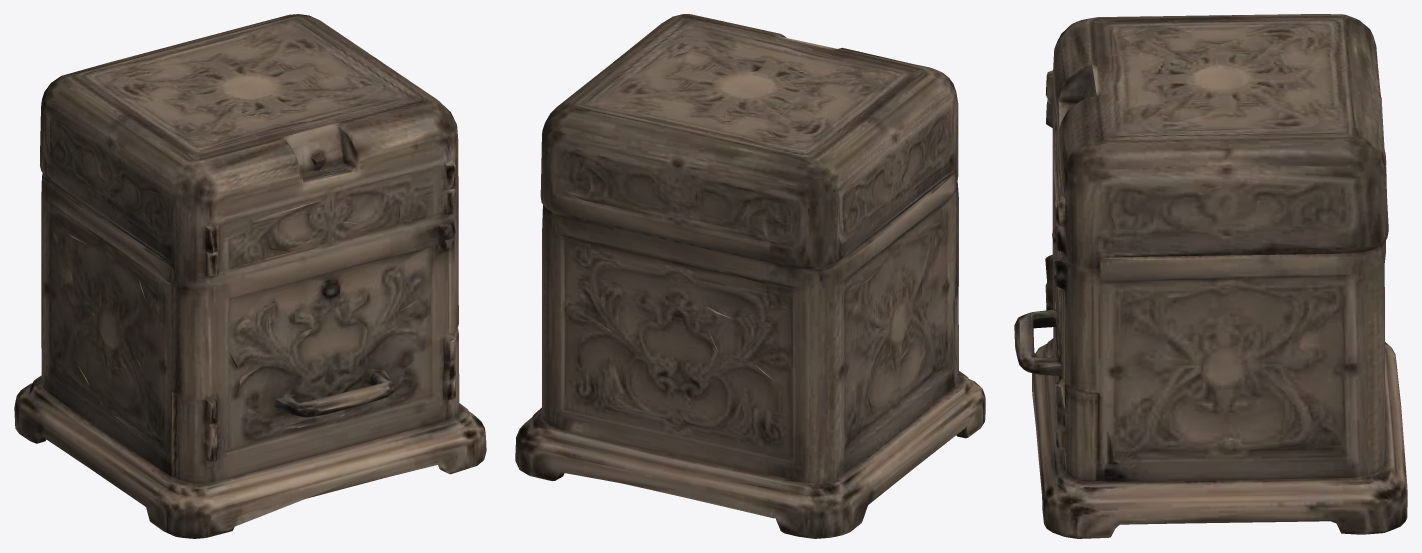
File: register.glb
The picture shows the model from 3 angles, left to right: view 1: azimuth 30°, elevation 25°; view 2: azimuth 150°, elevation 25°; view 3: azimuth 270°, elevation 25°; orthographic projection. The views are drawn at different scales.
Parts seen in each view (by area): view 1: register; view 2: register; view 3: register.
Part boxes in pixels (<box>): register: <box>14,14,486,538</box>; register: <box>515,14,985,538</box>; register: <box>1014,14,1407,538</box>.
Size of the model in its own units: 0.4885 by 0.5 by 0.4727.
1 material, 1 textured.
